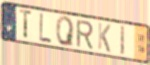I: (120, 25, 126, 58)
K: (97, 21, 112, 54)
L: (39, 12, 53, 45)
Q: (55, 16, 76, 49)
R: (75, 20, 94, 51)
T: (19, 8, 34, 41)
